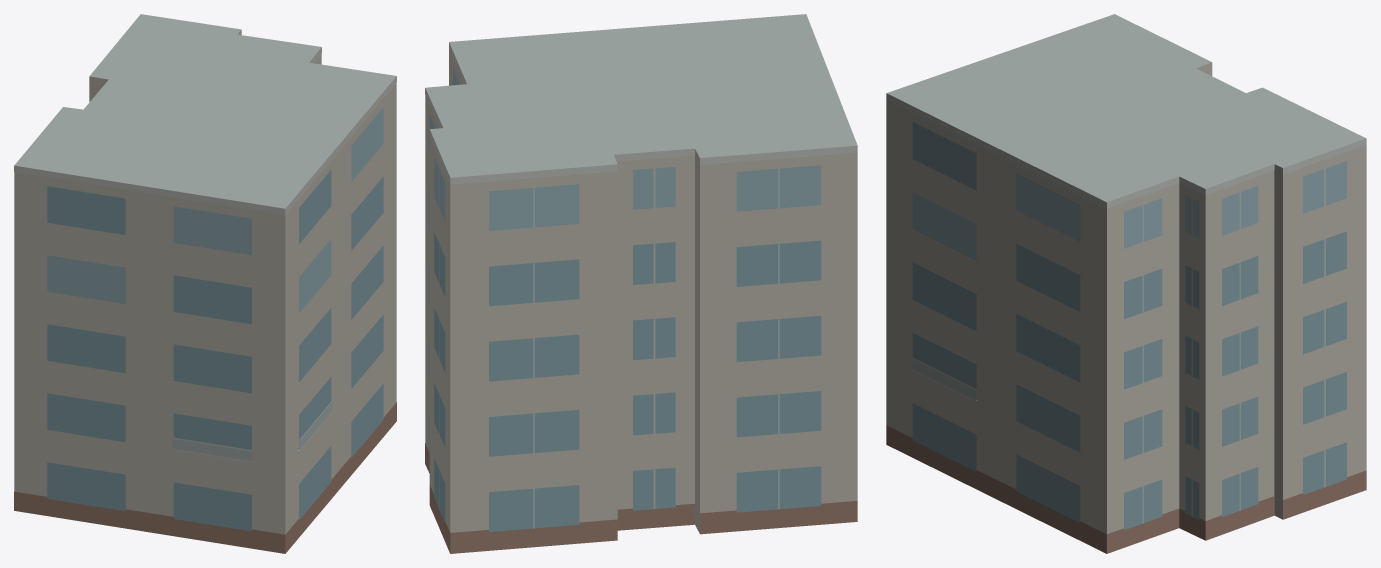
The model's file is survey-upis-32656652.glb.
3 views of the same model, side by side, from view 1: azimuth 30°, elevation 25°; view 2: azimuth 150°, elevation 25°; view 3: azimuth 270°, elevation 25° (orthographic). The views are drawn at different scales.
Visible parts, largest first — view 1: survey-upis-32656652.tmp; view 2: survey-upis-32656652.tmp; view 3: survey-upis-32656652.tmp.
Boxes of the visible parts, <box> form: survey-upis-32656652.tmp: <box>14,14,396,553</box>; survey-upis-32656652.tmp: <box>425,14,857,553</box>; survey-upis-32656652.tmp: <box>886,14,1366,553</box>.
Size of the model in its own units: 15.29 by 13.3 by 16.47.
